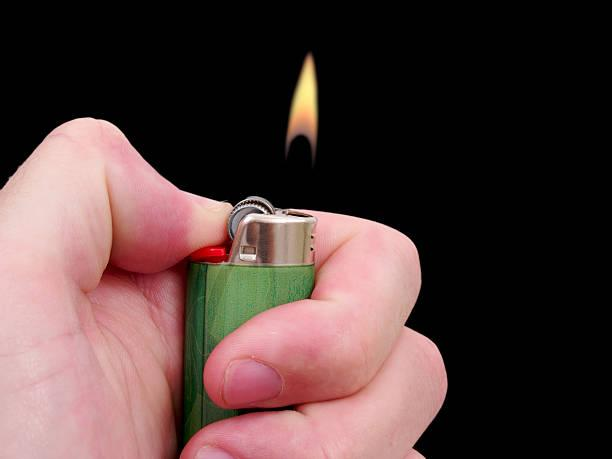Fire: (283, 51, 324, 181)
